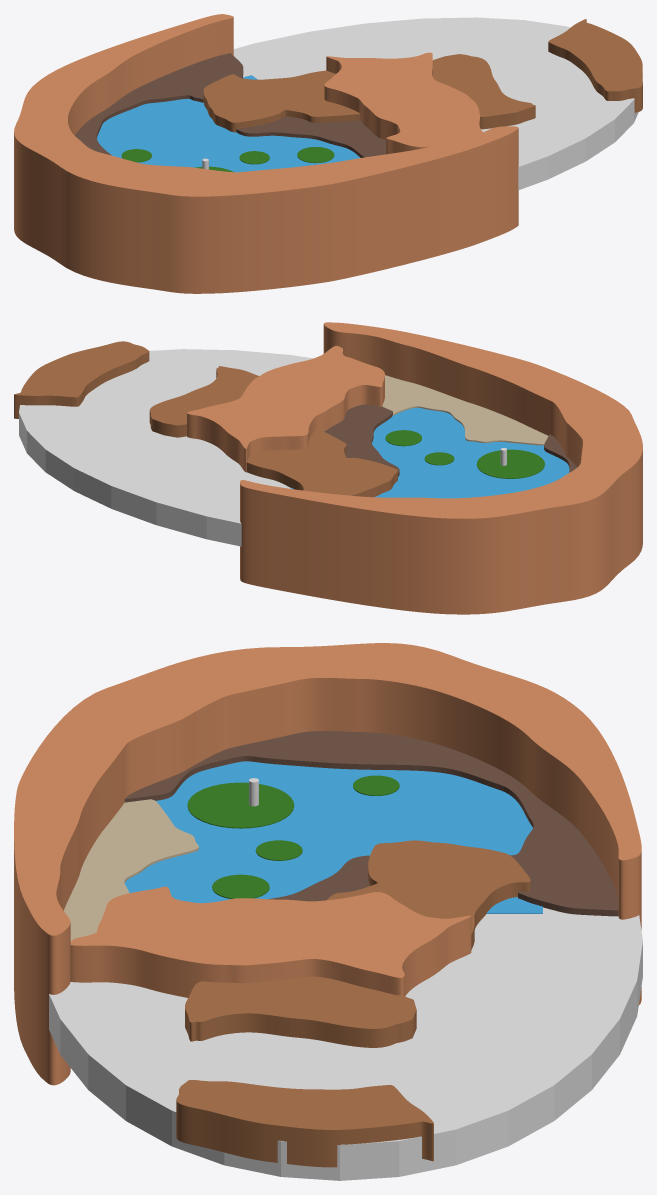
File: Tutorial Level.glb
The picture shows the model from 3 angles, top to bottom: view 1: azimuth 30°, elevation 25°; view 2: azimuth 150°, elevation 25°; view 3: azimuth 270°, elevation 25°; orthographic projection. The views are drawn at different scales.
Visible parts, largest first — view 1: wall, Cylinder.001, ground_level3, Cube, ground_level2, ground_level2.002, ground_level1, ground_level2.001, ground_level1.001, lilipad3; view 2: wall, Cylinder.001, ground_level3, Cube, ground_level2, ground_level2.002, sand, ground_level2.001, ground_level1.001, lilipad, lilipad3, ground_level1; view 3: wall, Cylinder.001, ground_level3, Cube, ground_level1, ground_level2.002, ground_level2.001, ground_level2, sand, lilipad, ground_level1.001, lilipad3 (+2 smaller).
Boxes of the visible parts, <box> form: wall: <box>14,14,518,293</box>; Cylinder.001: <box>233,17,638,190</box>; ground_level3: <box>324,52,482,154</box>; Cube: <box>97,75,360,172</box>; ground_level2: <box>203,70,360,132</box>; ground_level2.002: <box>548,19,642,112</box>; ground_level1: <box>75,53,243,155</box>; ground_level2.001: <box>432,54,535,129</box>; ground_level1.001: <box>236,116,386,157</box>; lilipad3: <box>297,147,334,163</box>; wall: <box>240,322,642,614</box>; Cylinder.001: <box>19,349,313,546</box>; ground_level3: <box>187,346,384,472</box>; Cube: <box>290,407,569,498</box>; ground_level2: <box>246,428,397,497</box>; ground_level2.002: <box>14,341,149,418</box>; sand: <box>382,375,548,445</box>; ground_level2.001: <box>149,366,259,437</box>; ground_level1.001: <box>324,404,399,476</box>; lilipad: <box>476,449,544,478</box>; lilipad3: <box>385,430,421,446</box>; ground_level1: <box>544,434,577,472</box>; wall: <box>14,643,641,1085</box>; Cylinder.001: <box>49,907,642,1180</box>; ground_level3: <box>70,886,471,997</box>; Cube: <box>125,761,542,913</box>; ground_level1: <box>124,731,618,916</box>; ground_level2.002: <box>176,1080,433,1167</box>; ground_level2.001: <box>185,976,416,1047</box>; ground_level2: <box>327,840,530,949</box>; sand: <box>64,799,198,941</box>; lilipad: <box>187,782,294,828</box>; ground_level1.001: <box>268,855,369,901</box>; lilipad3: <box>212,874,269,898</box>.
Bounding box in the file's own units: 50.76 × 8 × 30.47.
